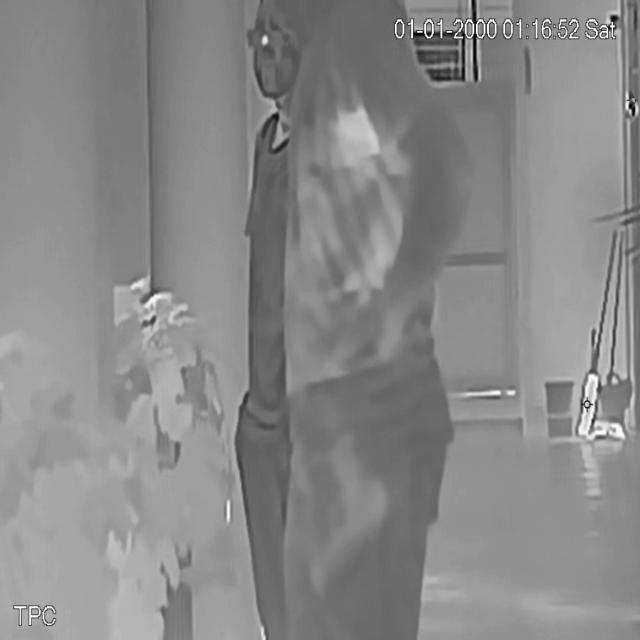Weapon: (294, 425, 392, 602)
